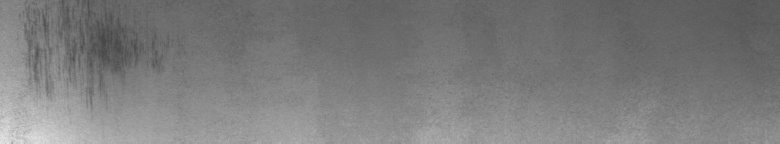ka: (19, 4, 160, 109)
